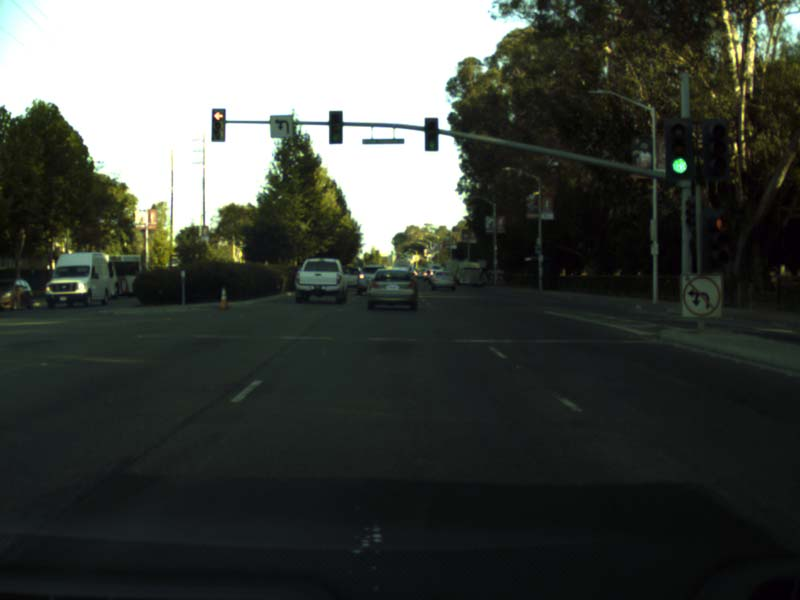Green: (664, 119, 694, 180), (423, 118, 438, 151), (328, 109, 342, 143)
Red: (703, 207, 728, 271), (210, 107, 224, 142)
